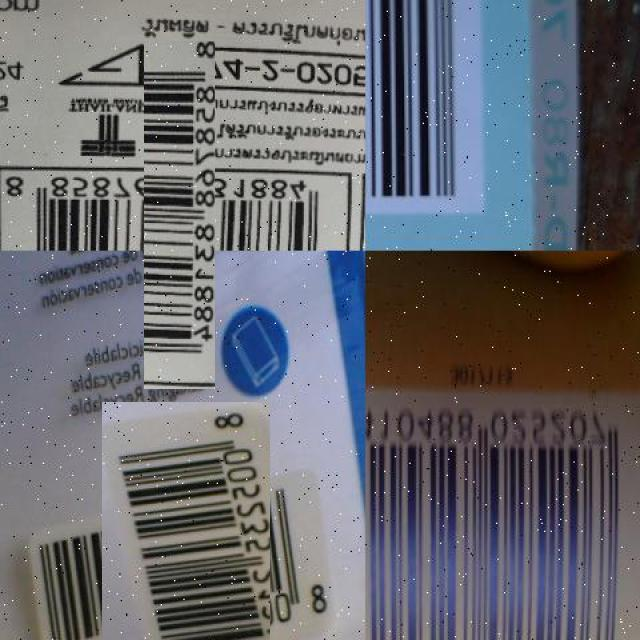Barcode: (365, 396, 640, 640), (67, 437, 305, 640), (74, 110, 284, 320), (365, 0, 483, 219)
